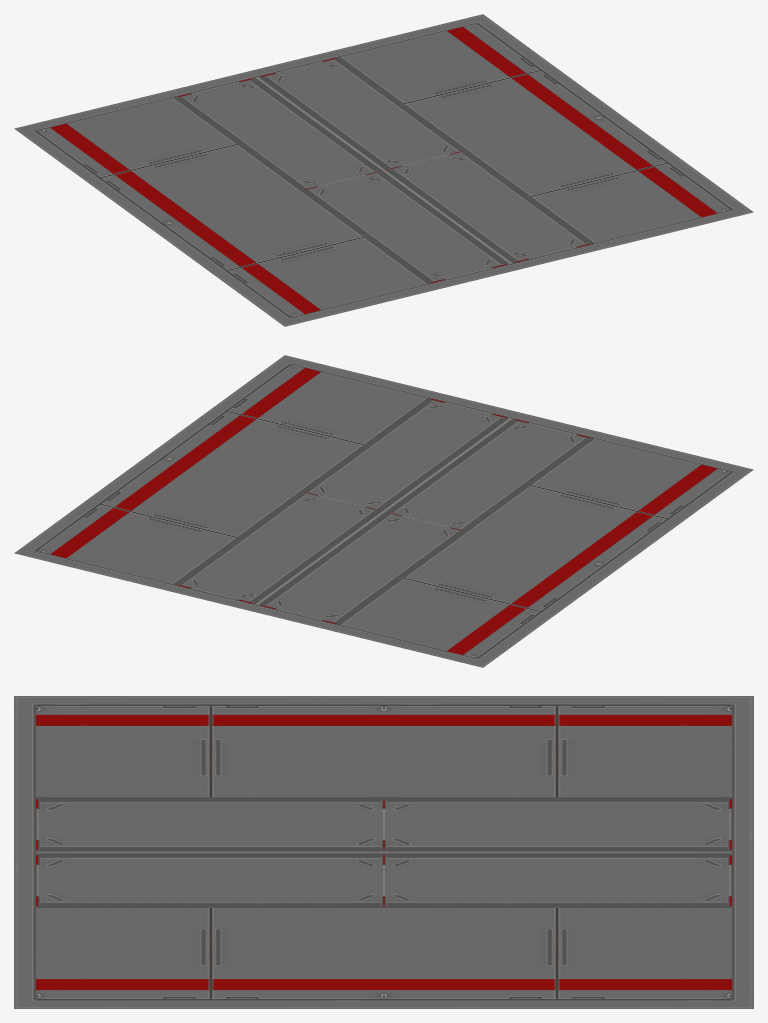
Rendered from floor-metal-ByT6BlI8.glb.
The picture shows the model from 3 angles, top to bottom: view 1: azimuth 30°, elevation 25°; view 2: azimuth 150°, elevation 25°; view 3: azimuth 270°, elevation 25°; orthographic projection. The views are drawn at different scales.
Parts seen in each view (by area): view 1: Platform_Metal2; view 2: Platform_Metal2; view 3: Platform_Metal2.
Boxes of the visible parts, x1=… form: Platform_Metal2: x1=14, y1=14, x2=753, y2=326; Platform_Metal2: x1=14, y1=355, x2=753, y2=667; Platform_Metal2: x1=14, y1=696, x2=753, y2=1008.
Bounding box in the file's own units: 4 × 0 × 4.
Materials: 1 (1 with a texture image).
